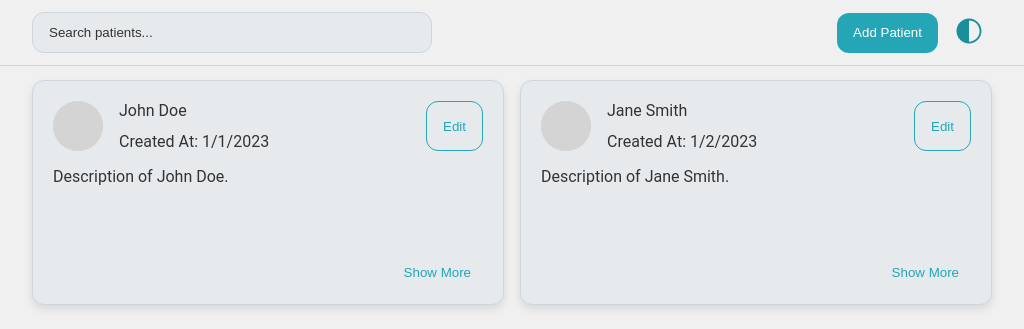
Test case: Patient Management › should allow users to expand patient details
This screenshot has width=1024, height=329.
What coordinates should you click on to do the following:
click the button "Show More" below "Description of John Doe."
I would click on:
 (438, 273)
Its box is [388, 257, 487, 288].
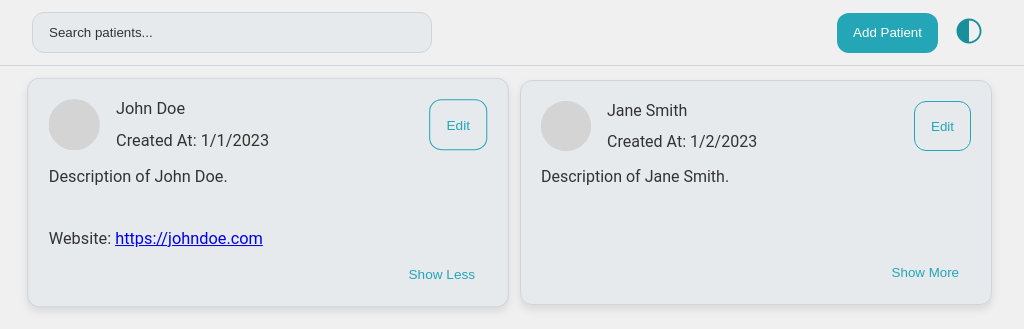
Expected: the element showing "Website: https://johndoe.com" is shown, [49, 229, 263, 248]
